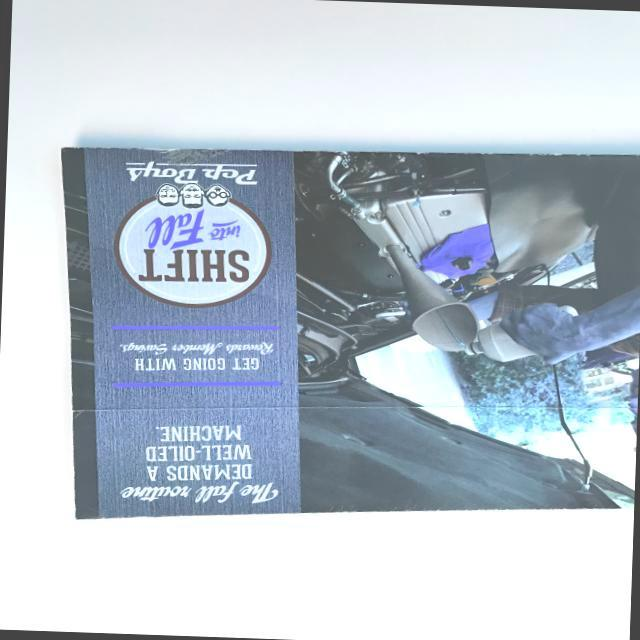paper: (41, 128, 640, 545)
